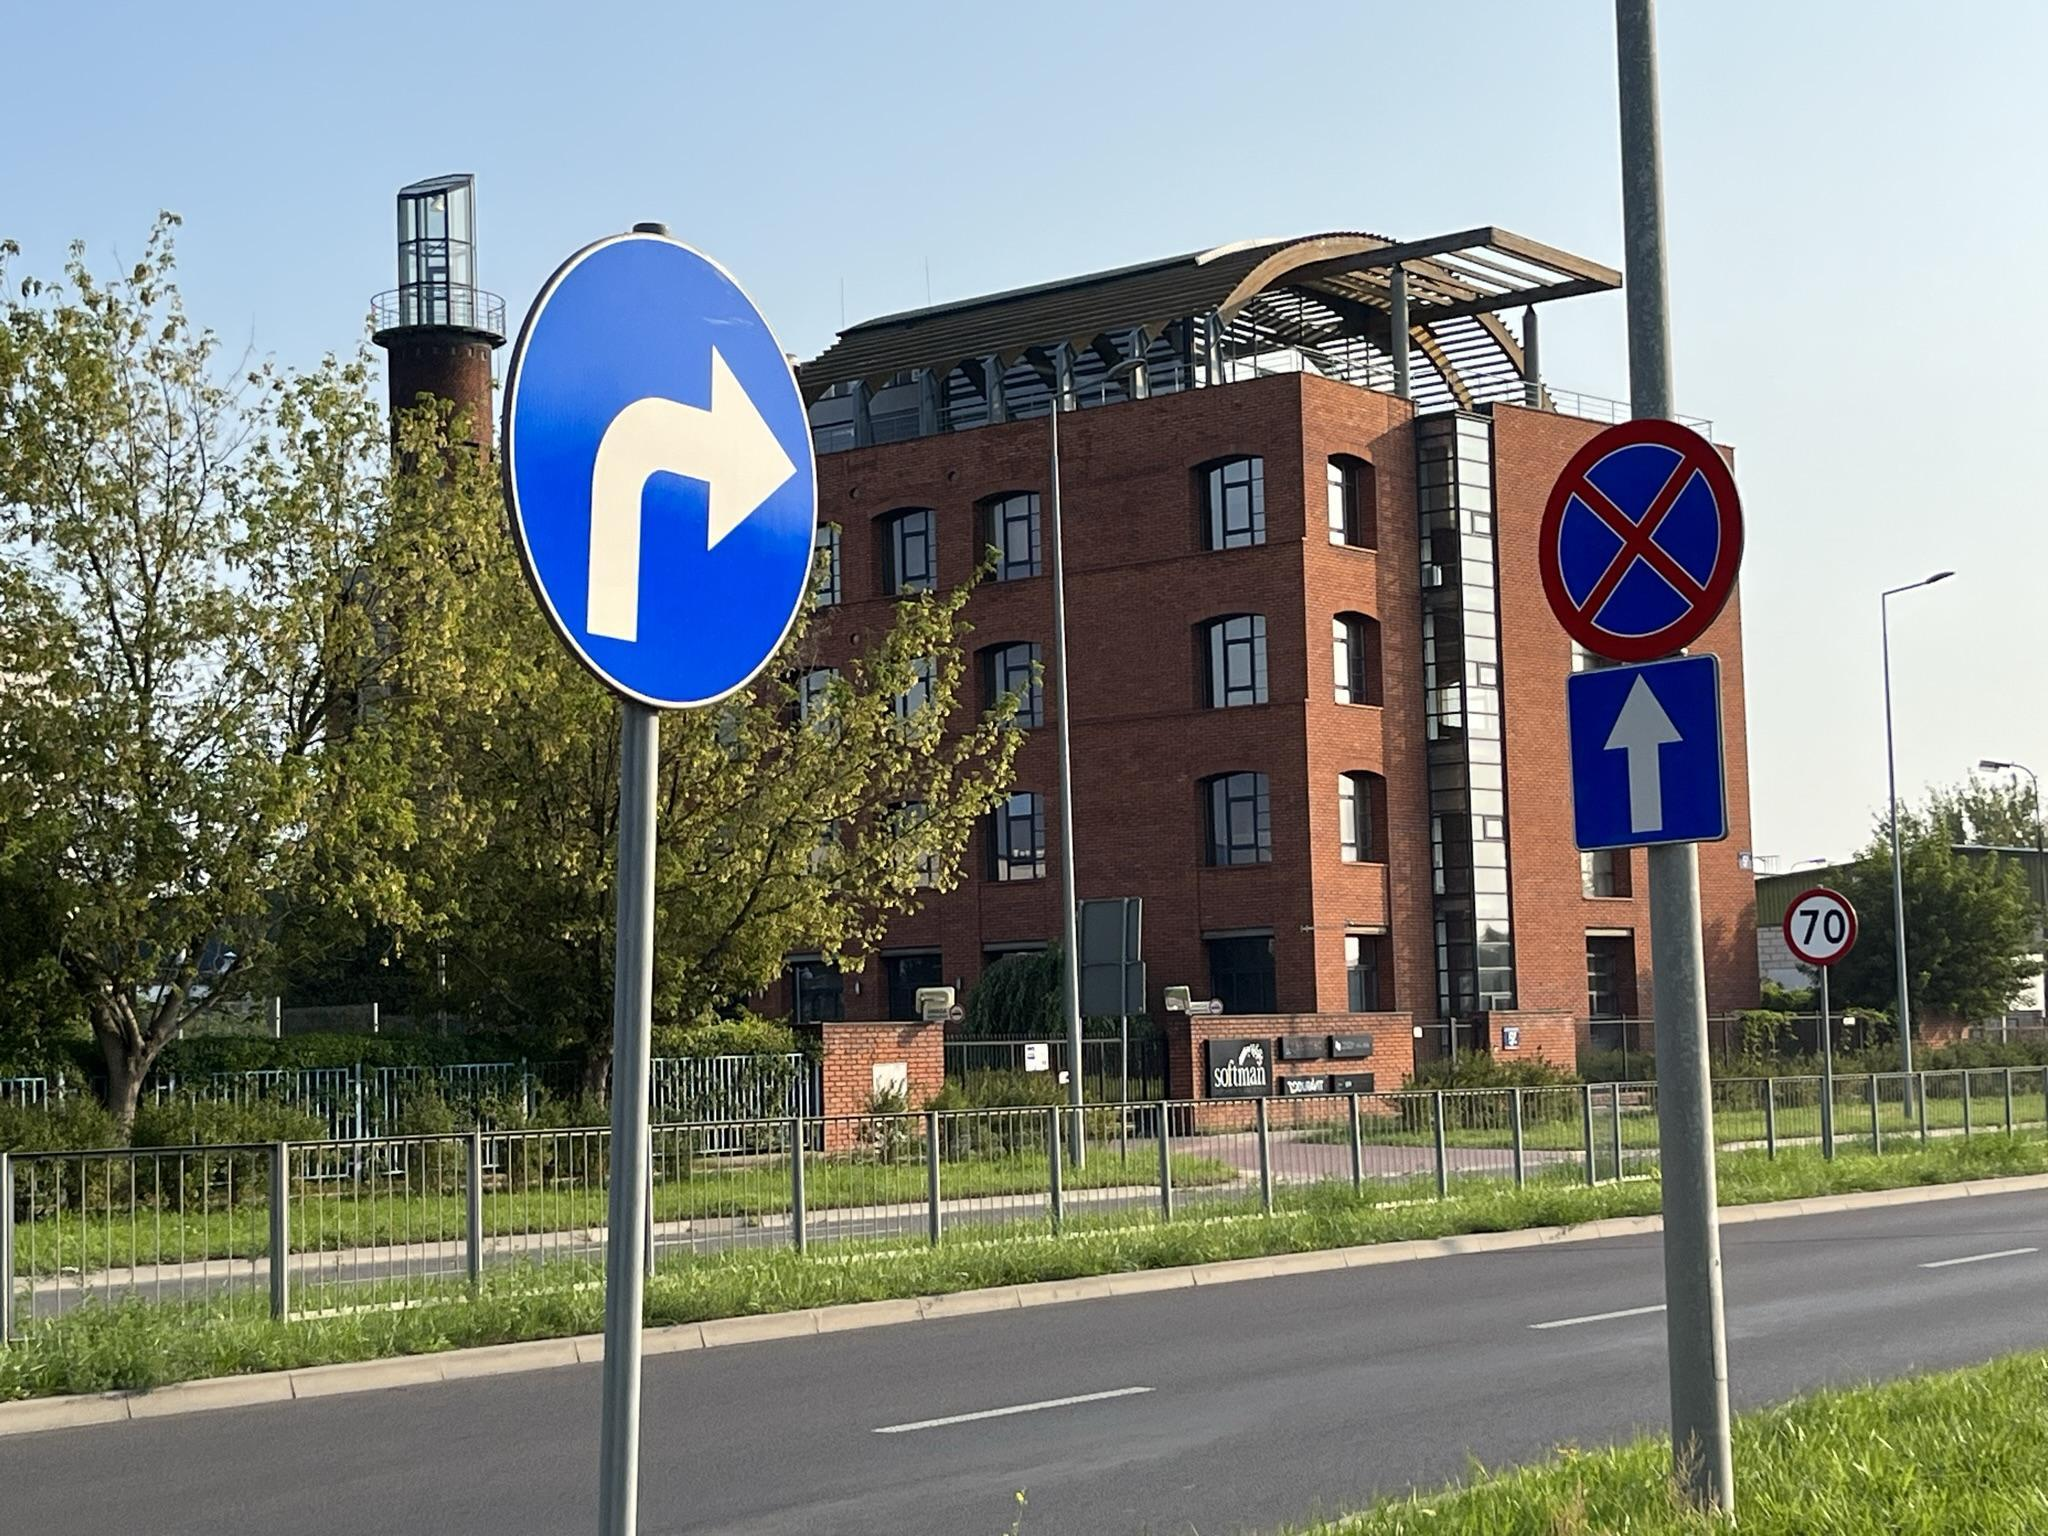information: (1564, 652, 1729, 850)
mandatory: (500, 231, 819, 713)
prohibitory: (1538, 418, 1743, 662), (1782, 886, 1861, 965)
